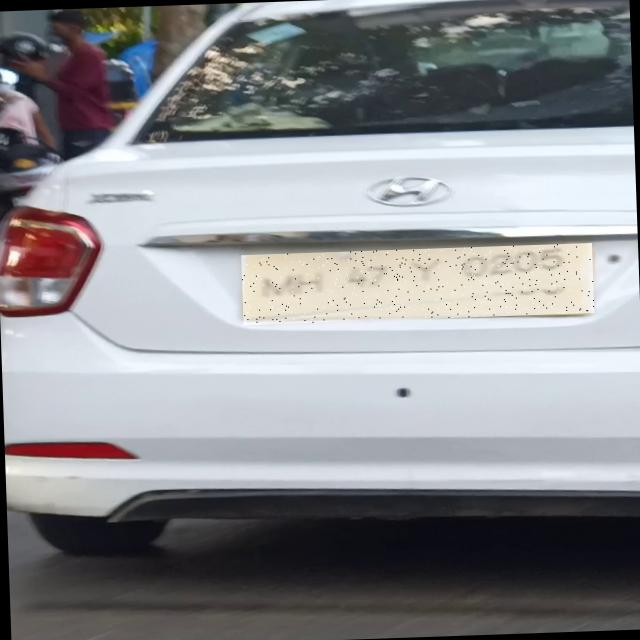Plate: (242, 244, 595, 326)
